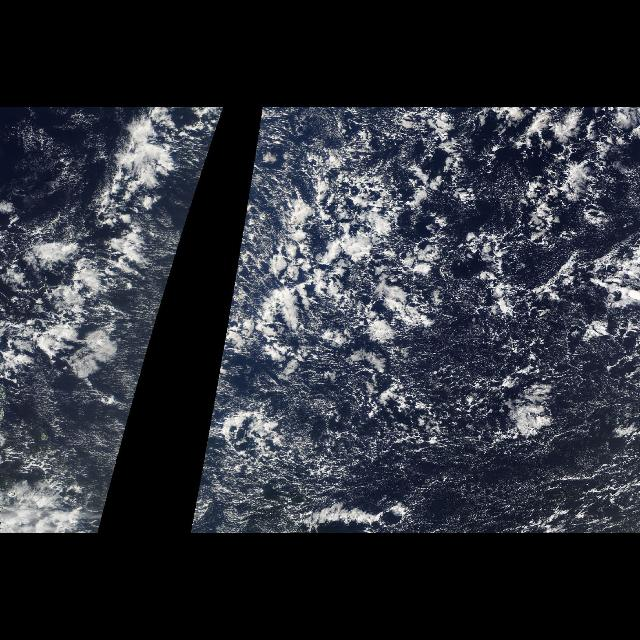Fish: (231, 113, 477, 399), (1, 107, 202, 393)
Flower: (479, 108, 635, 348)
Gravel: (264, 113, 634, 533)
Sugar: (321, 283, 639, 533), (191, 283, 321, 525), (77, 283, 169, 525), (0, 109, 98, 217)
